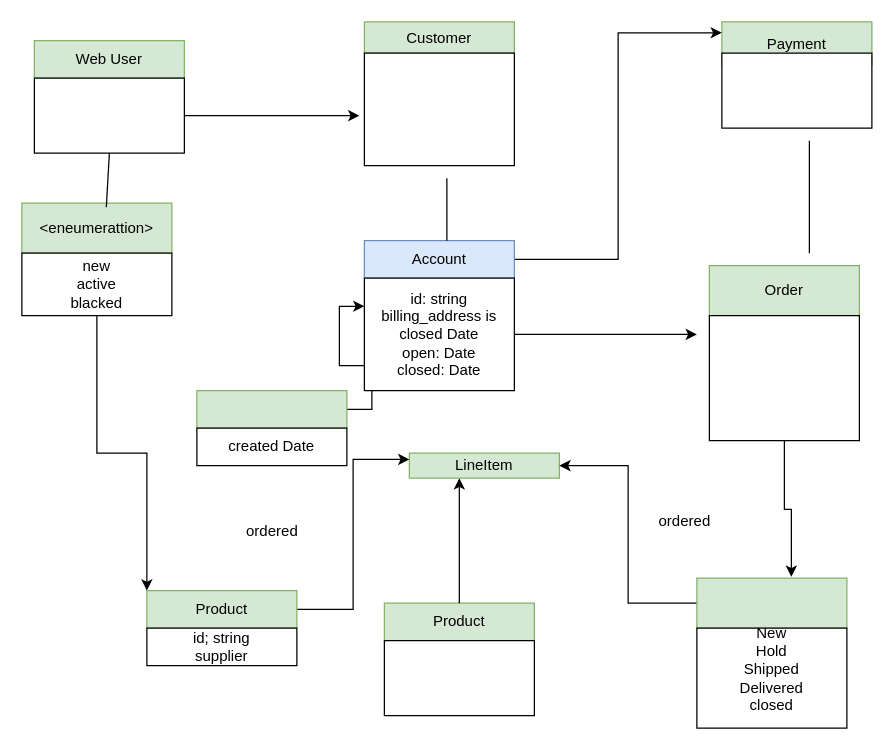
Image size: 894x754. Some labels were removed from this diagram. Here are the shapes that lost their labels. From the top down, the centre of each, then its label:
At pixel 438 109: "id: string billing_address is_closed Boolean open: Date closed: Date".
At pixel 796 90: "id: String paid: Date total : Real".
At pixel 108 115: "login_id: String password: String Email: String".
At pixel 783 377: "number: string ordered: Date ship to: Date total:real satus order satus".
At pixel 271 408: "Shopping Cart".
At pixel 771 602: "<ennumeration>".
At pixel 458 677: "id: string name: string supplier".
